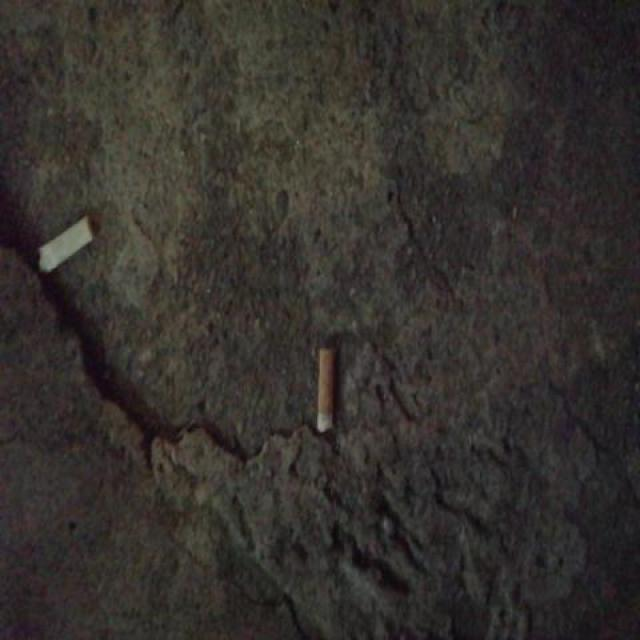non-organic waste: (36, 210, 97, 278), (313, 343, 340, 437)
